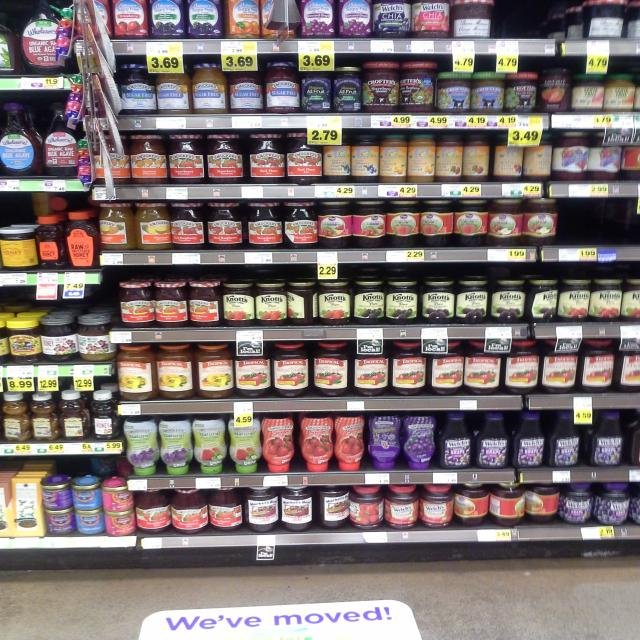void: (567, 196, 640, 243)
